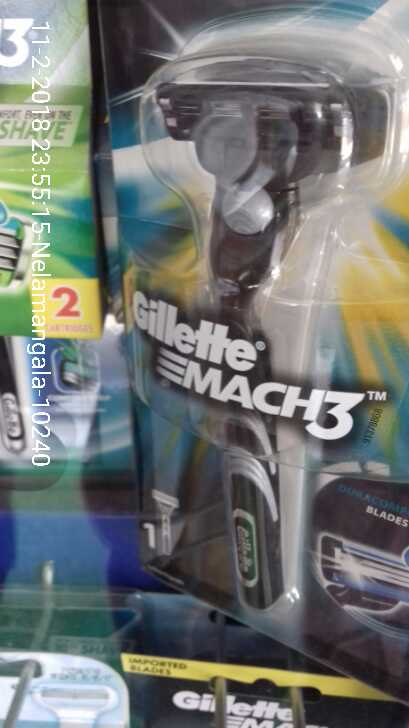gillette: (109, 47, 409, 612)
